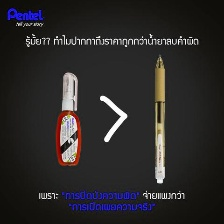correction_fluid: (53, 70, 83, 168)
